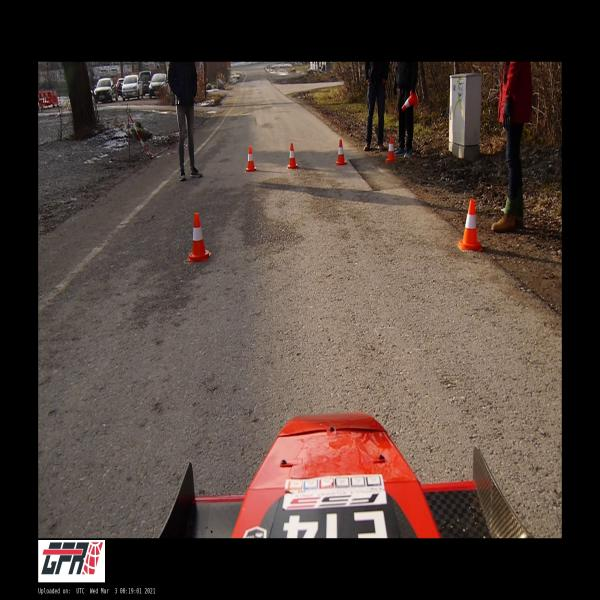orange_cone: (458, 200, 482, 250), (187, 213, 211, 261), (402, 90, 418, 111), (245, 146, 257, 172), (335, 140, 347, 165), (386, 135, 397, 162), (287, 143, 298, 169)
